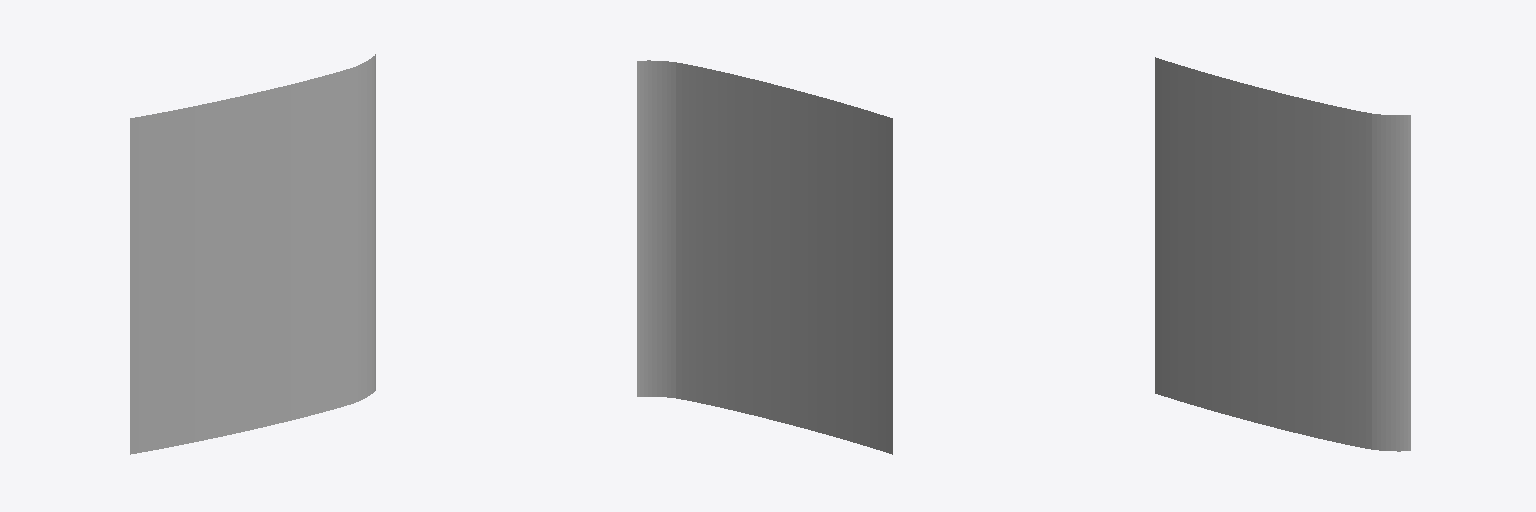
Rendered from left-list2.obj.
3 renders of one model, left to right at view 1: azimuth 30°, elevation 25°; view 2: azimuth 150°, elevation 25°; view 3: azimuth 330°, elevation 25°, orthographic.
Parts seen in each view (by area): view 1: Cube.001; view 2: Cube.001; view 3: Cube.001.
Boxes of the visible parts, x1=… form: Cube.001: x1=130, y1=54, x2=375, y2=454; Cube.001: x1=637, y1=60, x2=892, y2=454; Cube.001: x1=1155, y1=57, x2=1410, y2=451.
Bounding box in the file's own units: 1.88 × 2.41 × 0.136.